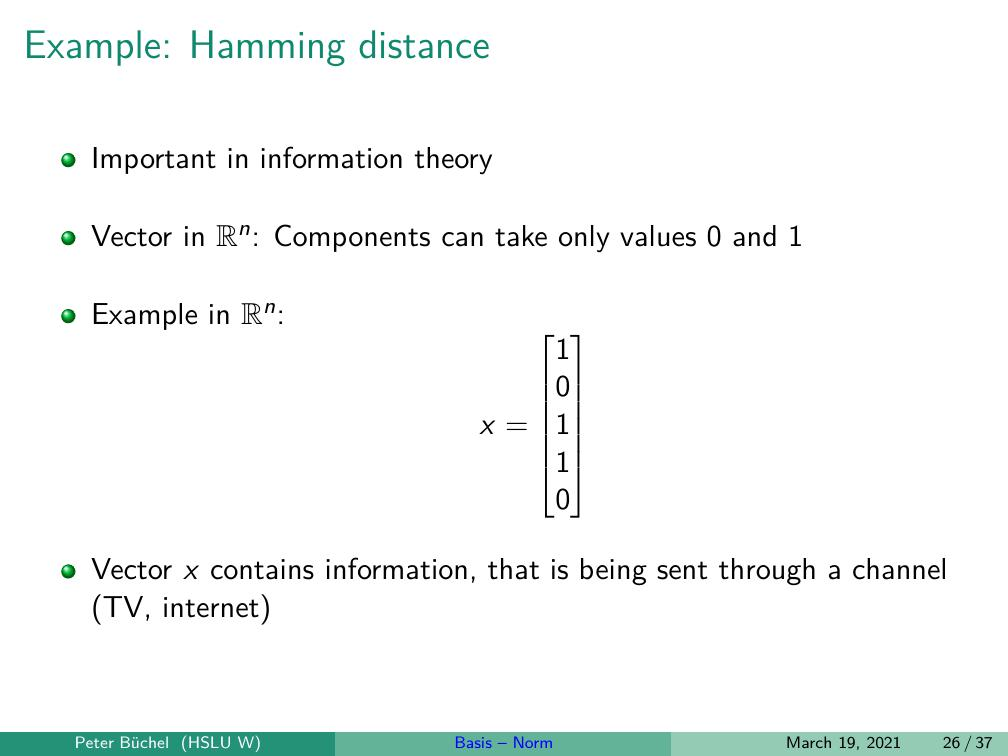Title: (21, 29, 495, 66)
